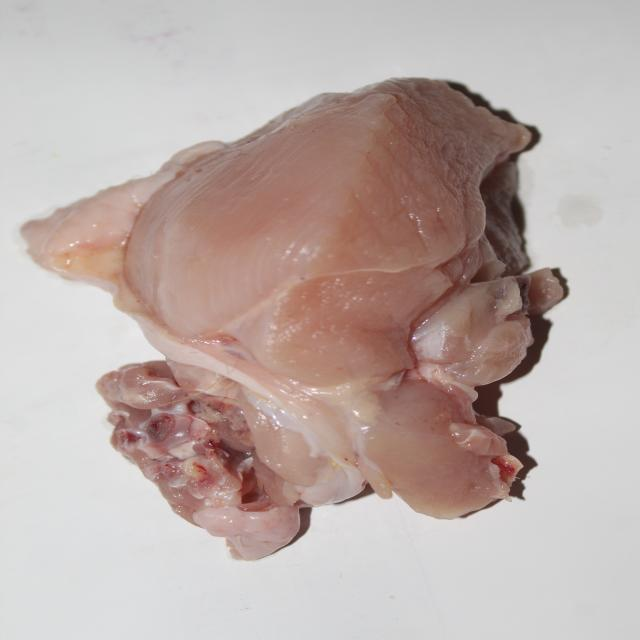chicken: (27, 80, 527, 550)
